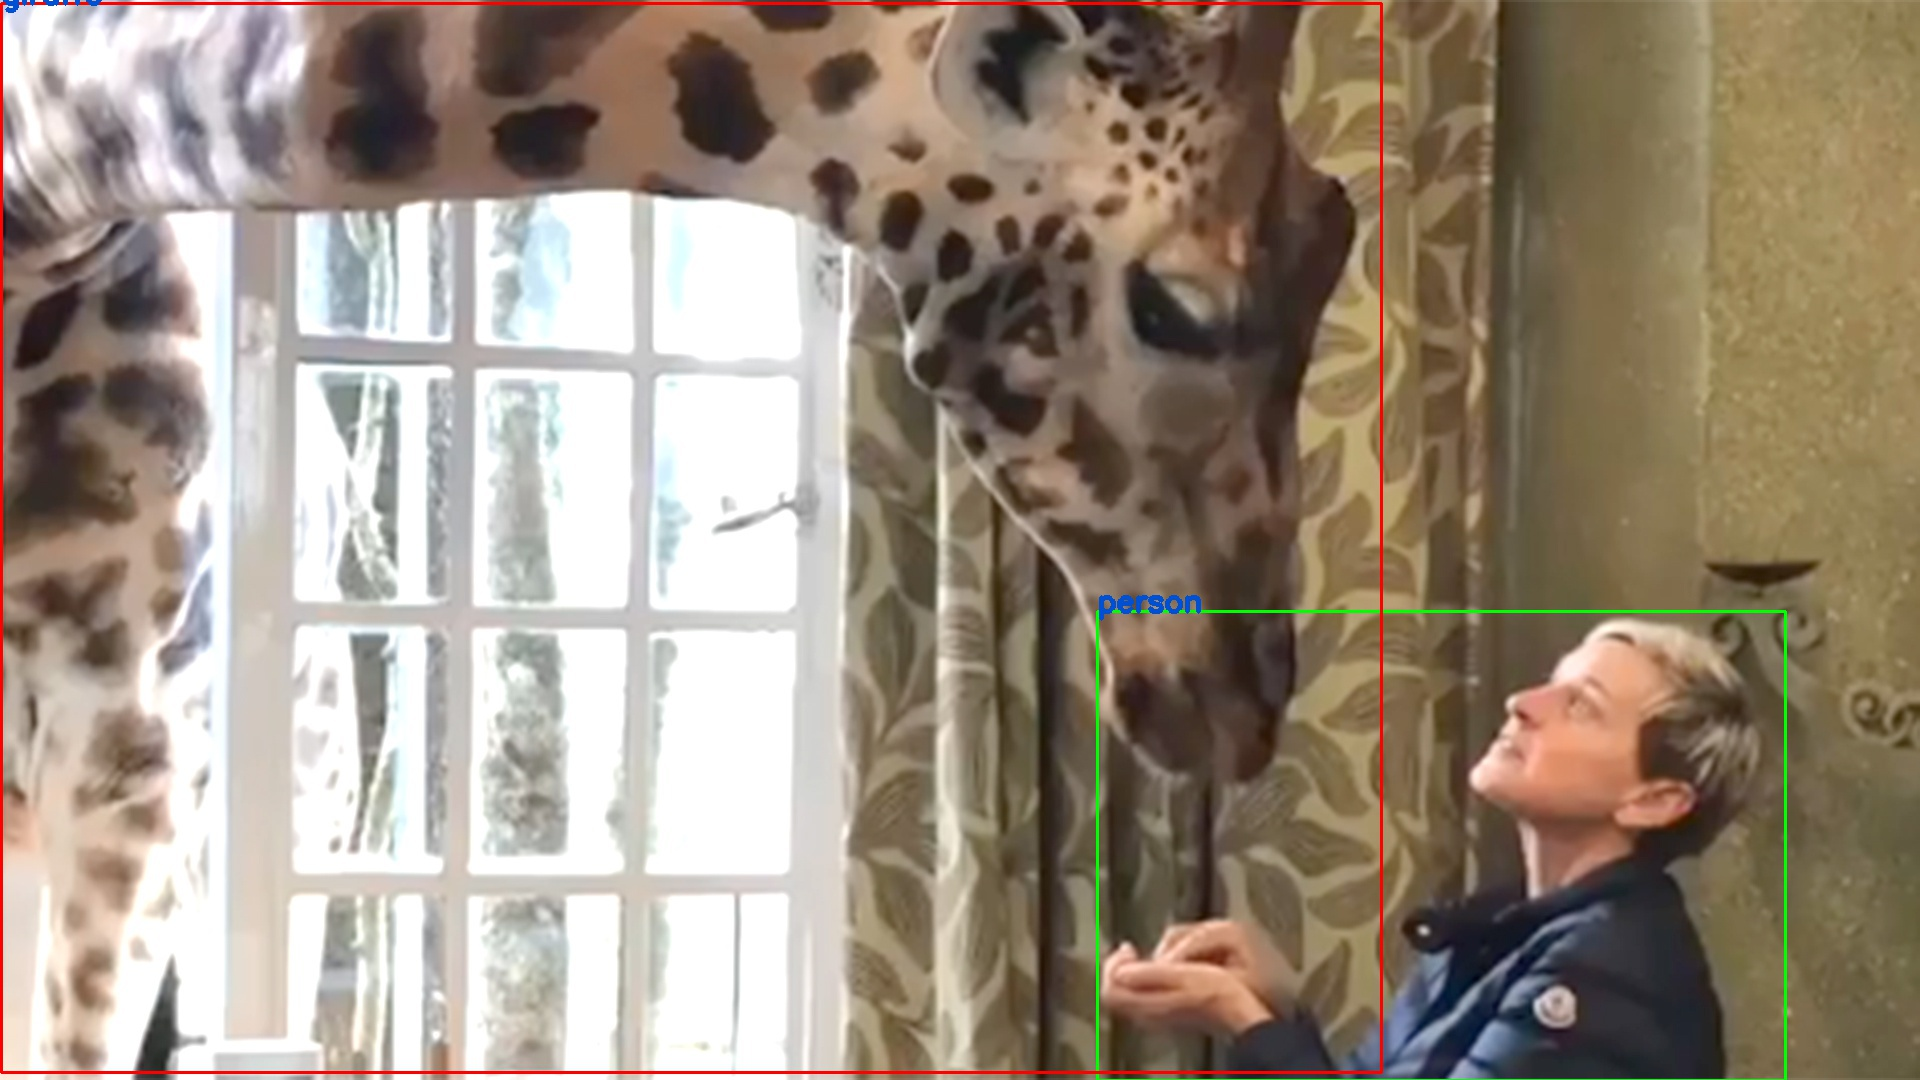giraffe: (1, 2, 1381, 1071)
person: (1097, 610, 1785, 1079)
